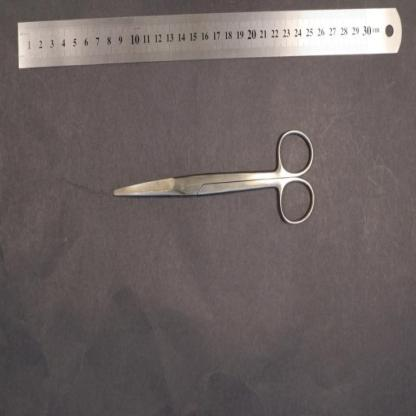Curved Mayo Scissors: (113, 127, 316, 230)
